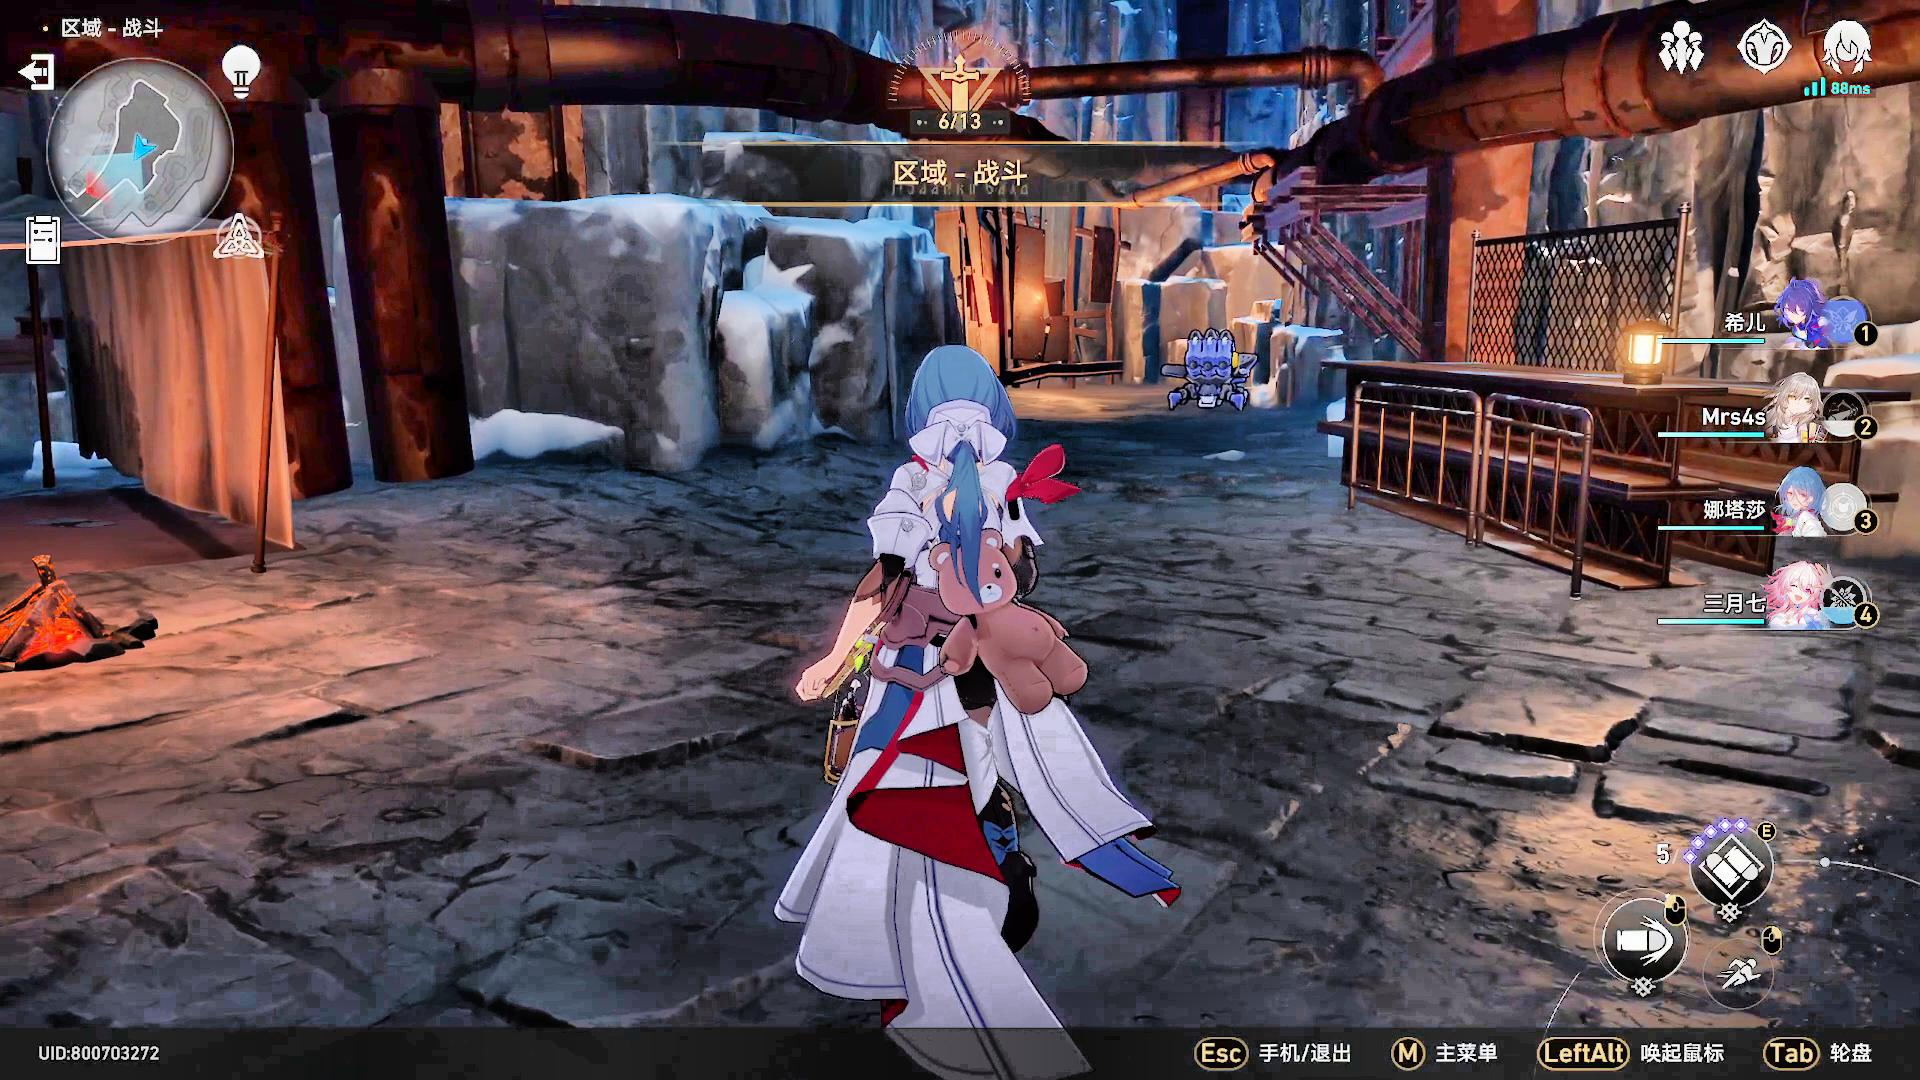Enemy: (1156, 324, 1261, 411)
Self: (795, 345, 1149, 1062)
